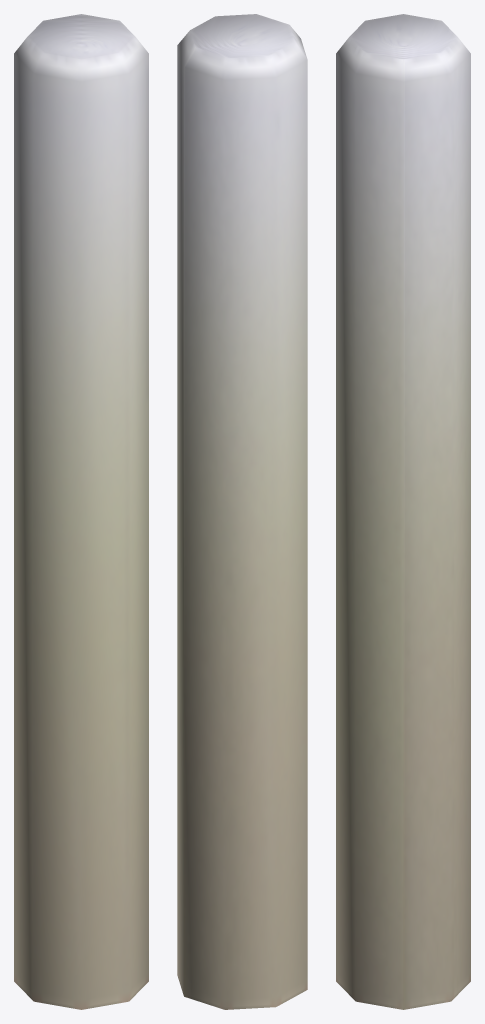
Rendered from Candle01_A01.FBX.
3 views of the same model, side by side, from view 1: azimuth 90°, elevation 25°; view 2: azimuth 210°, elevation 25°; view 3: azimuth 270°, elevation 25° (orthographic).
Parts seen in each view (by area): view 1: Candle01_A01; view 2: Candle01_A01; view 3: Candle01_A01.
Part boxes in pixels (x1=…): Candle01_A01: x1=14, y1=14, x2=148, y2=1009; Candle01_A01: x1=177, y1=14, x2=307, y2=1009; Candle01_A01: x1=336, y1=14, x2=470, y2=1009.
Bounding box in the file's own units: 5.55 × 5.55 × 42.89.
